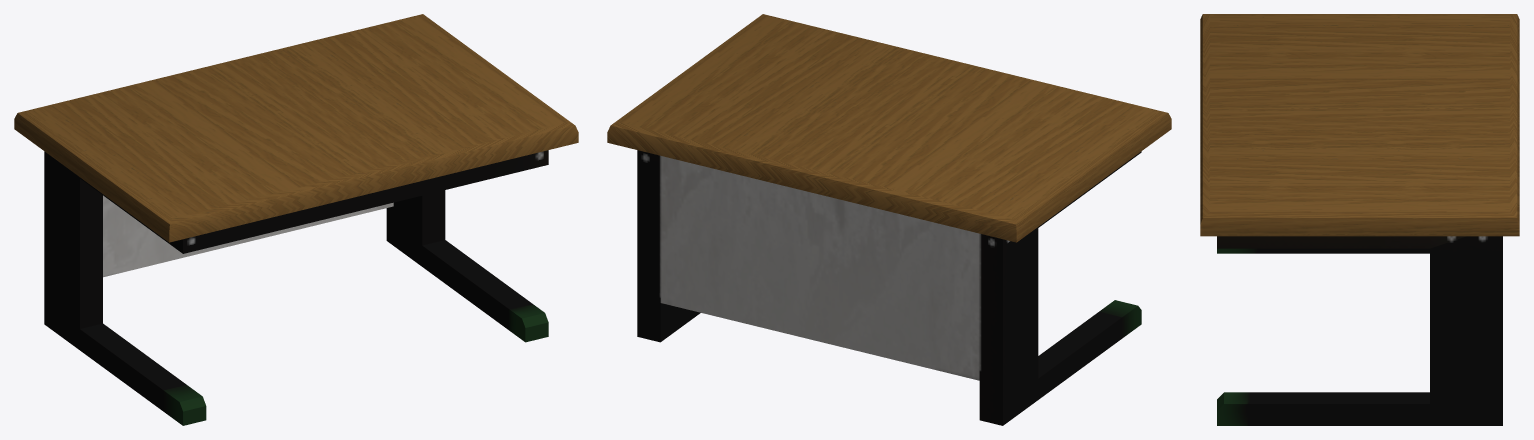
Rendered from Company_desk_B.fbx.
3 renders of one model, left to right at view 1: azimuth 30°, elevation 25°; view 2: azimuth 150°, elevation 25°; view 3: azimuth 270°, elevation 25°, orthographic. The views are drawn at different scales.
Parts seen in each view (by area): view 1: Box204; view 2: Box204; view 3: Box204.
Boxes of the visible parts, bbox=[...] form: Box204: bbox=[14, 14, 578, 425]; Box204: bbox=[607, 14, 1171, 425]; Box204: bbox=[1200, 14, 1519, 425].
Bounding box in the file's own units: 1.67 × 0.8319 × 1.09.
Materials: 1 (1 with a texture image).
